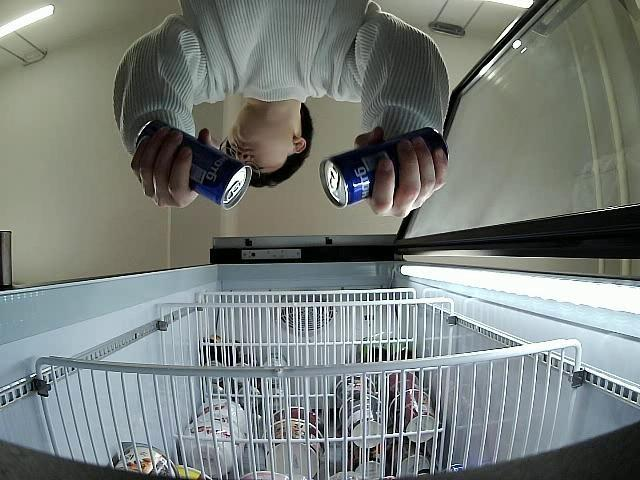16_hot6: (320, 125, 450, 208), (137, 122, 252, 212)
